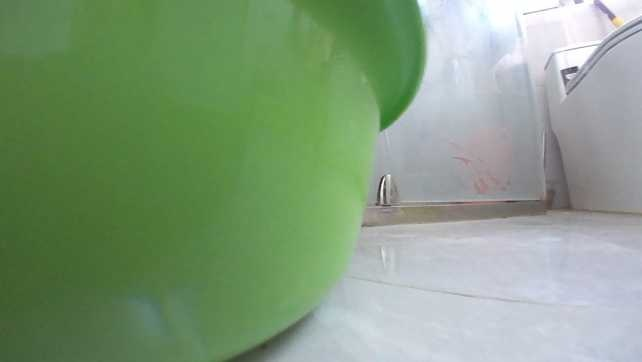toilet: (539, 14, 641, 213)
